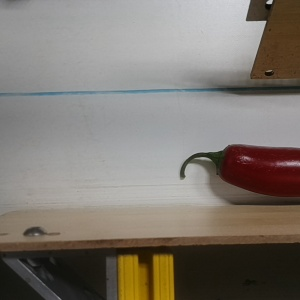Cut Point: (206, 142, 243, 183)
